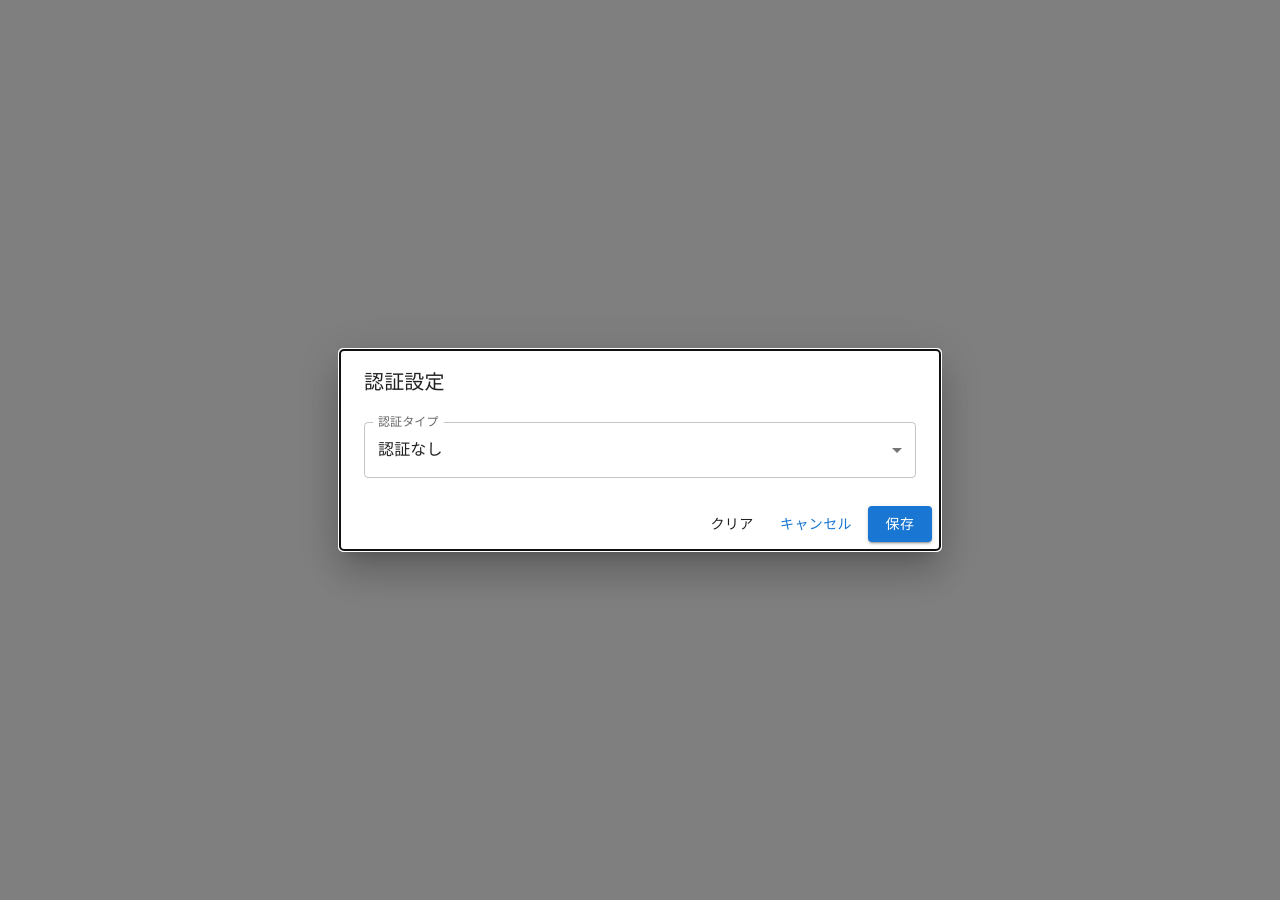
Scenario: AuthSettings + FormAnalyzerPanel 統合 › Task 4.2: 簡易認証情報入力UI › 解析完了後はユーザー名入力欄とパスワード入力欄のみを表示する
The width and height of the screenshot is (1280, 900).
# フォームログインを選択
Click the dropdown: (410, 450) 378,440 -> 443,459
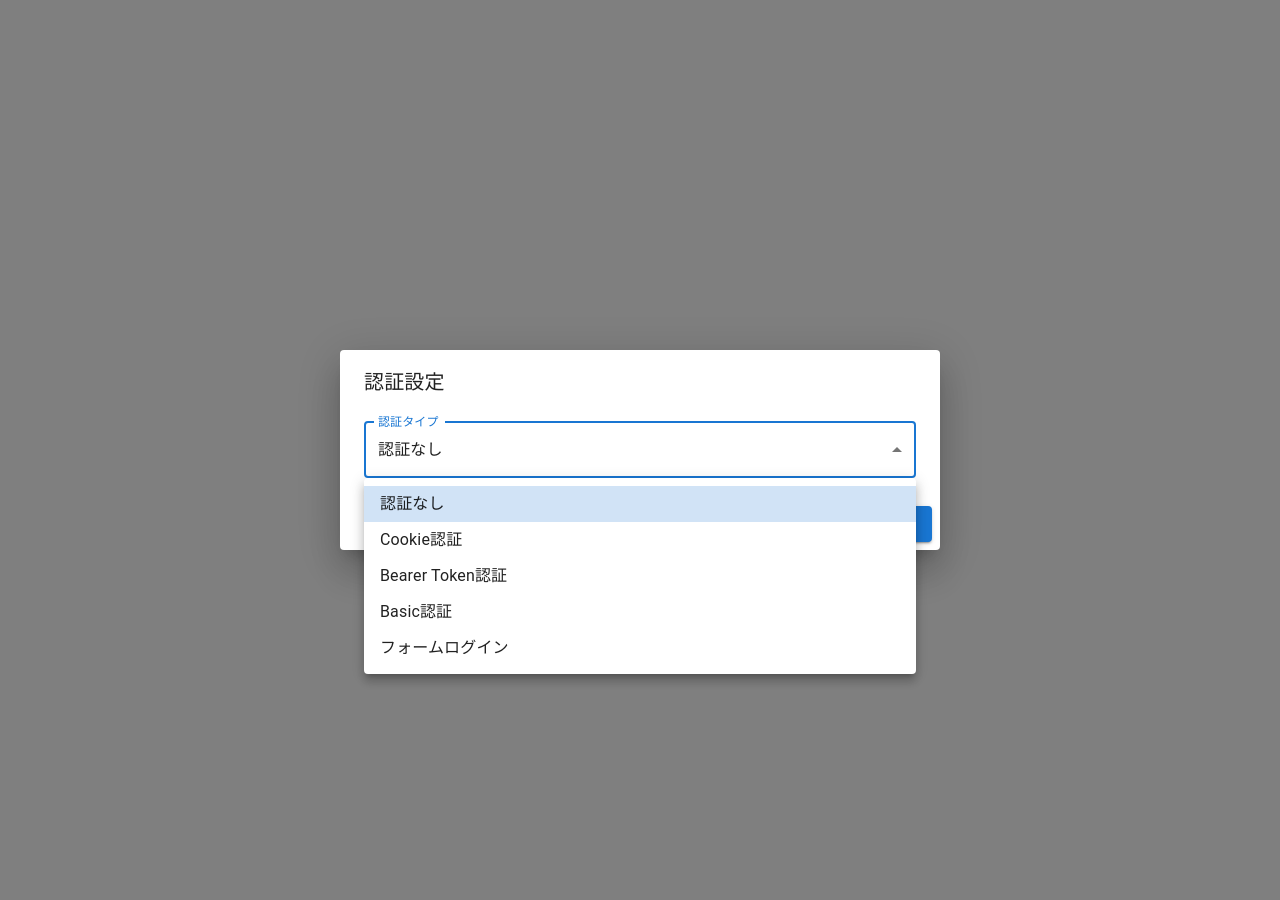
Click the option "フォームログイン": (444, 648) 380,638 -> 509,657
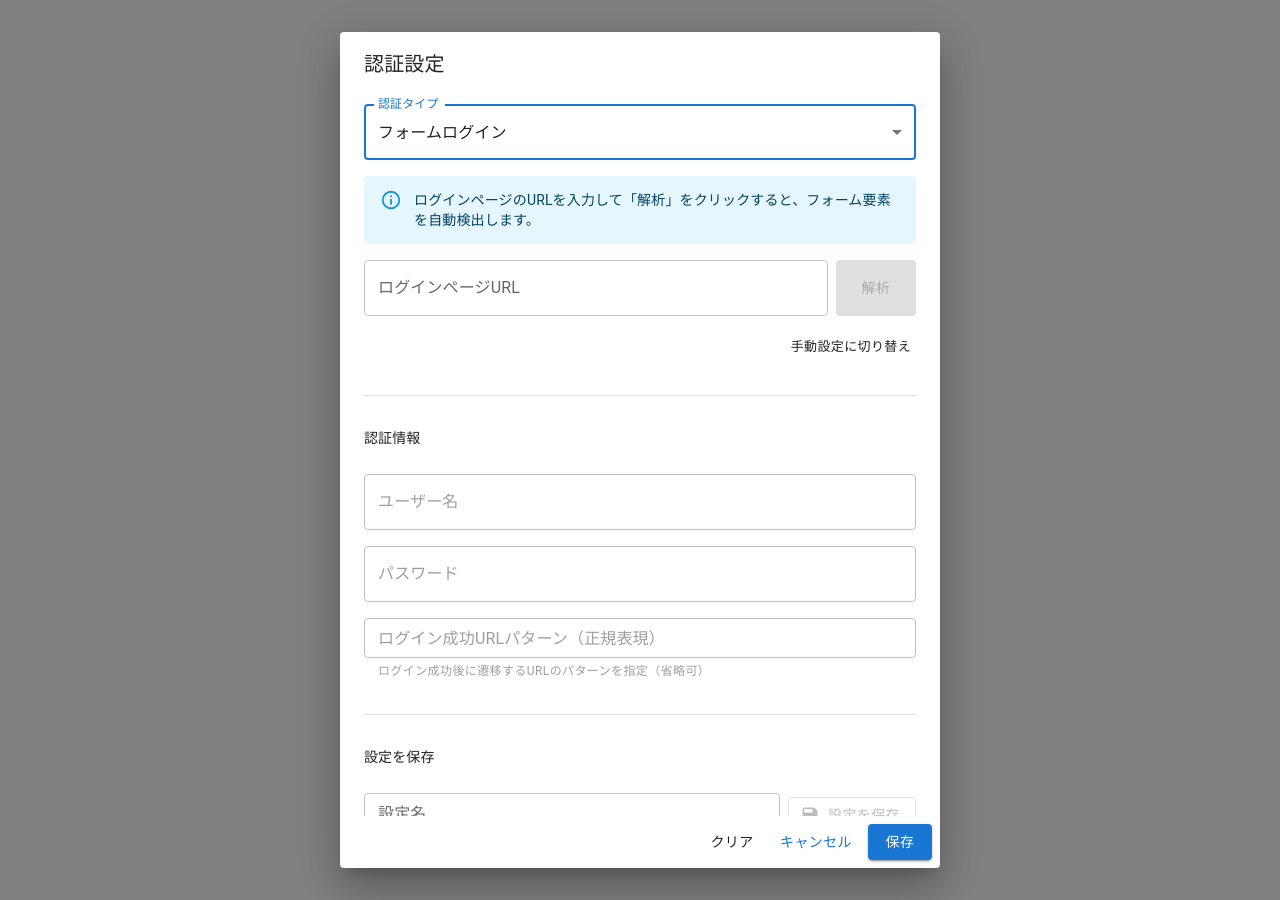
# URLを入力して解析
In the field with placeholder "https://example.com/login": (596, 288) 364,260 -> 828,316, type "https://test.example.com/login"
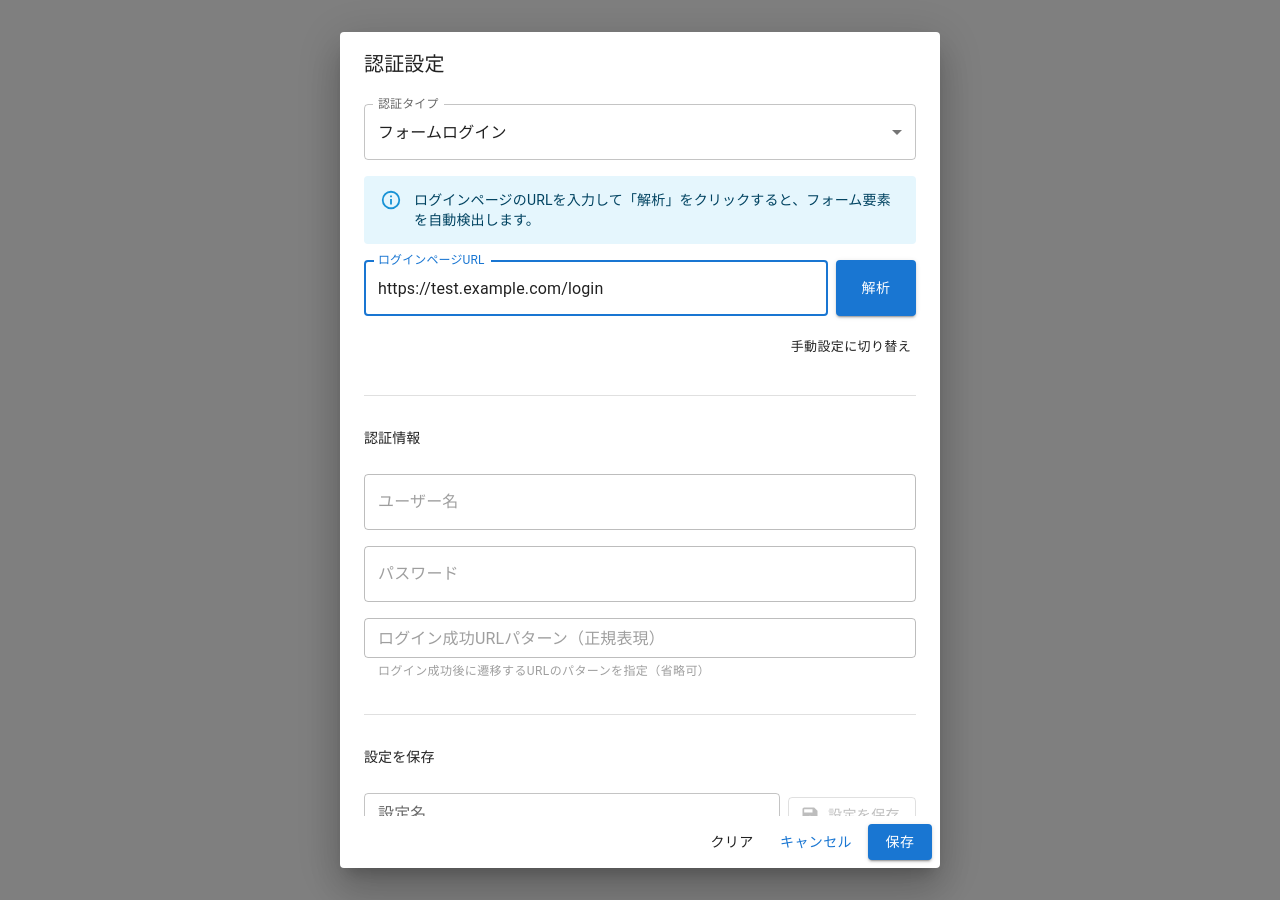
Click the button "解析": (876, 288) 836,260 -> 916,316
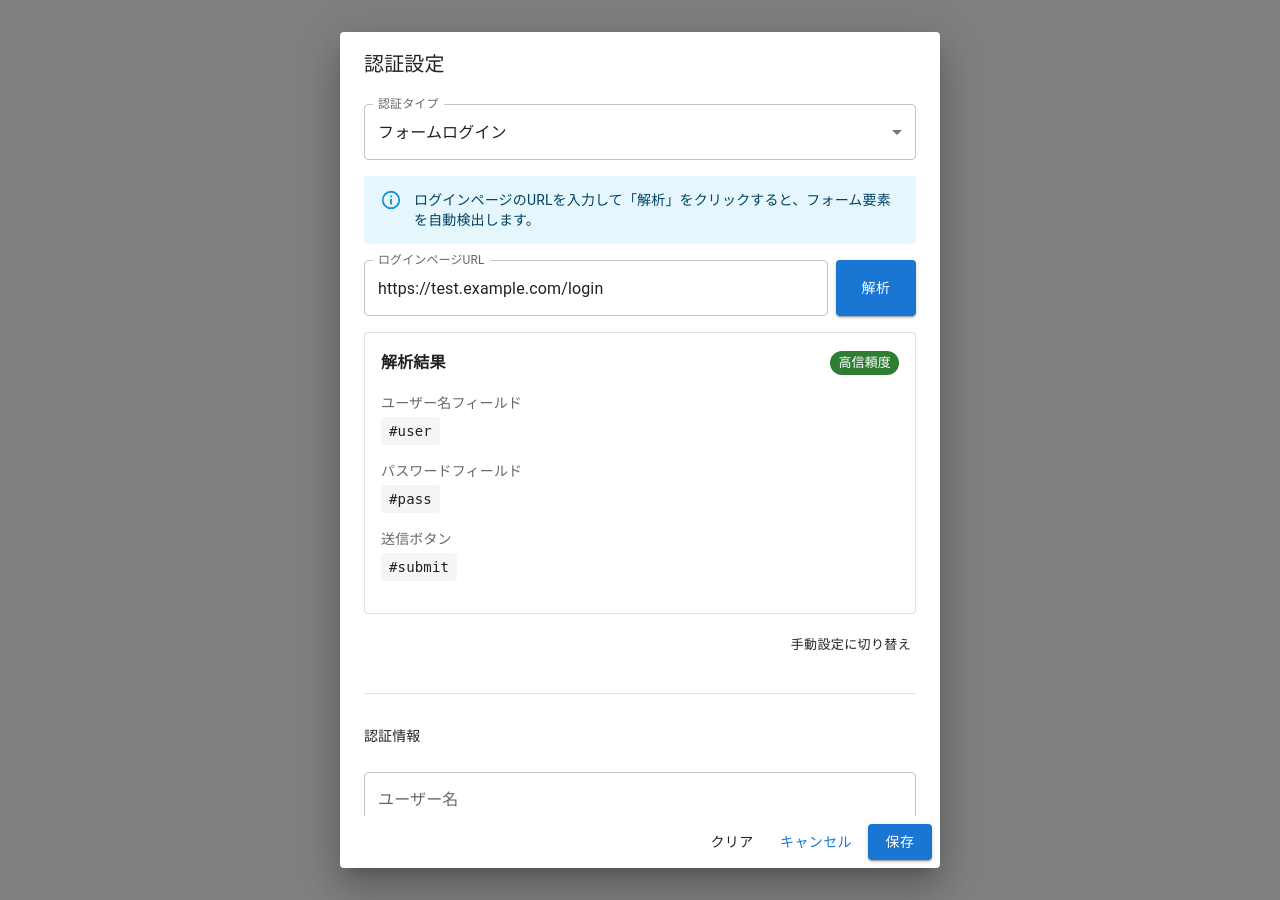
expect the field labelled "ユーザー名" is shown: met, box 364,772 -> 916,816
expect the heading "解析結果" is shown: met, box 381,349 -> 446,377
